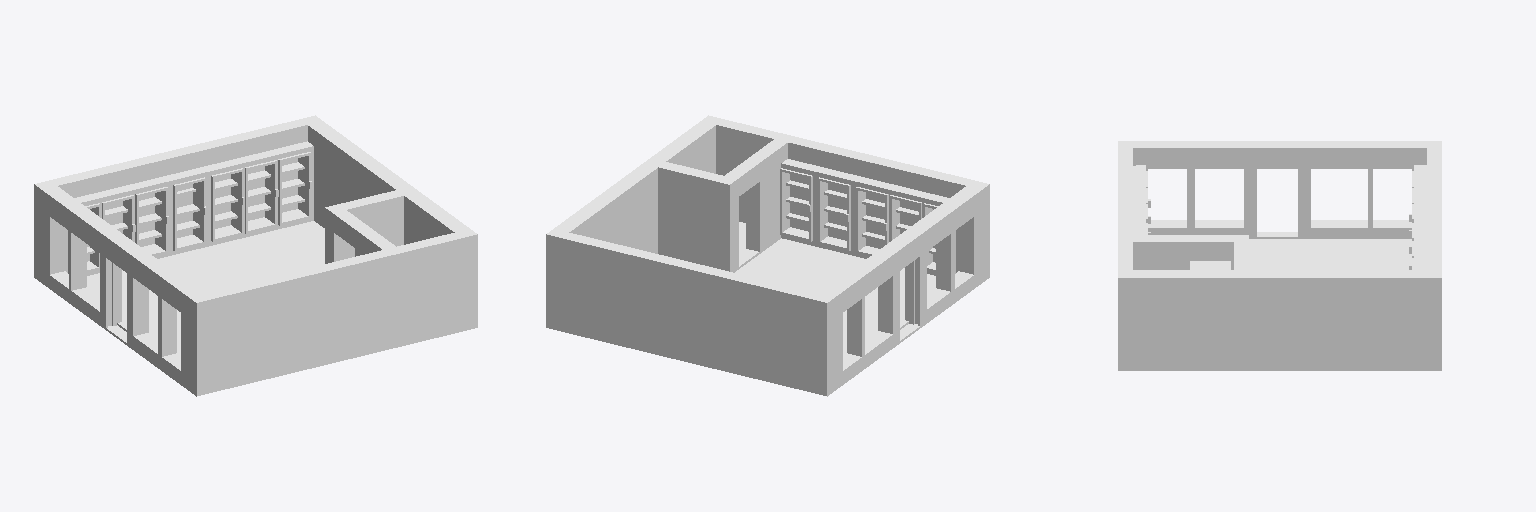
The model's file is gas:station.obj.
The picture shows the model from 3 angles: view 1: azimuth 30°, elevation 25°; view 2: azimuth 150°, elevation 25°; view 3: azimuth 270°, elevation 25°; orthographic projection.
Visible parts, largest first — view 1: gas:station; view 2: gas:station; view 3: gas:station.
Boxes of the visible parts, box(x1,y1,x2,y2) form: gas:station: box(34, 115, 477, 396); gas:station: box(546, 115, 989, 396); gas:station: box(1118, 141, 1441, 370).
Bounding box in the file's own units: 126 × 40 × 126.